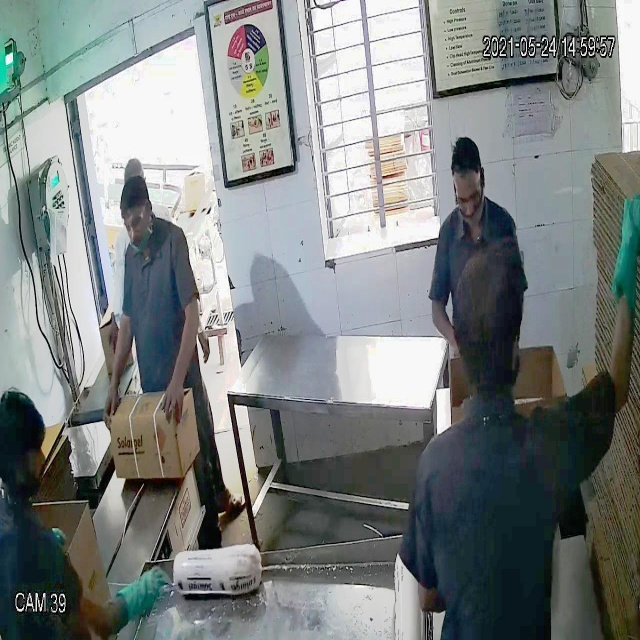Gafas: (119, 210, 148, 237)
